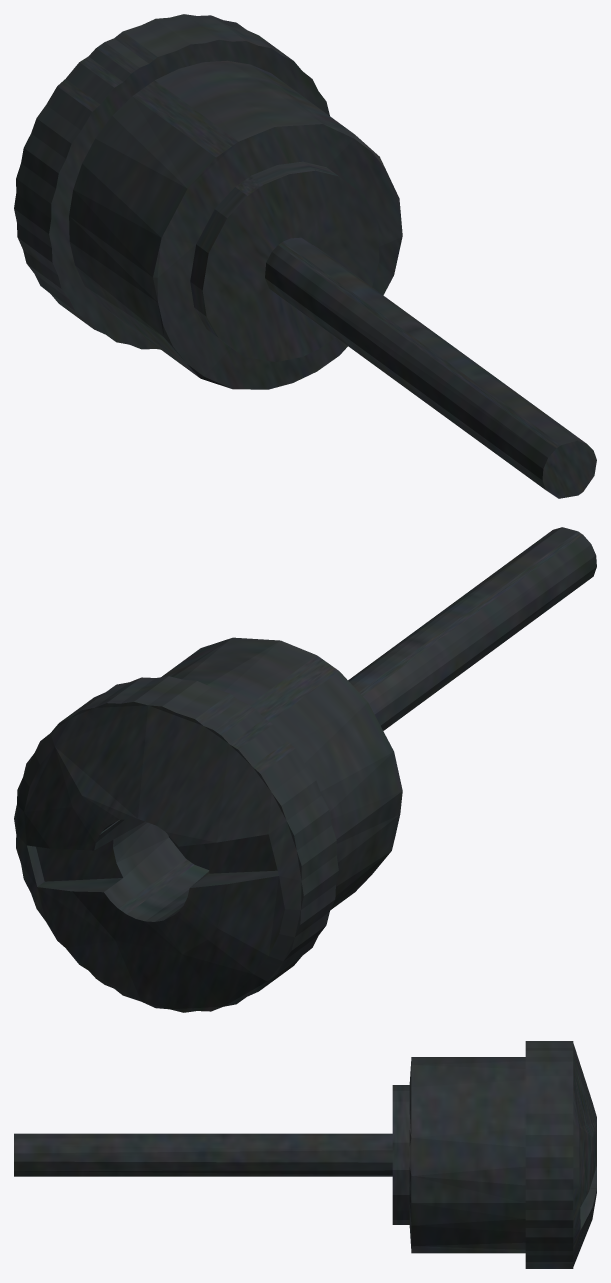
Rendered from Round_Nut.dae.
3 renders of one model, top to bottom at view 1: azimuth 30°, elevation 25°; view 2: azimuth 150°, elevation 25°; view 3: azimuth 270°, elevation 25°, orthographic. The views are drawn at different scales.
Visible parts, largest first — view 1: Round_Nut; view 2: Round_Nut; view 3: Round_Nut.
Boxes of the visible parts, left/top/right/bottom form: Round_Nut: left=14, top=14, right=596, bottom=498; Round_Nut: left=14, top=527, right=596, bottom=1012; Round_Nut: left=14, top=1041, right=596, bottom=1268.
Bounding box in the file's own units: 0.0179 × 0.0457 × 0.0179.
1 material, 1 textured.
